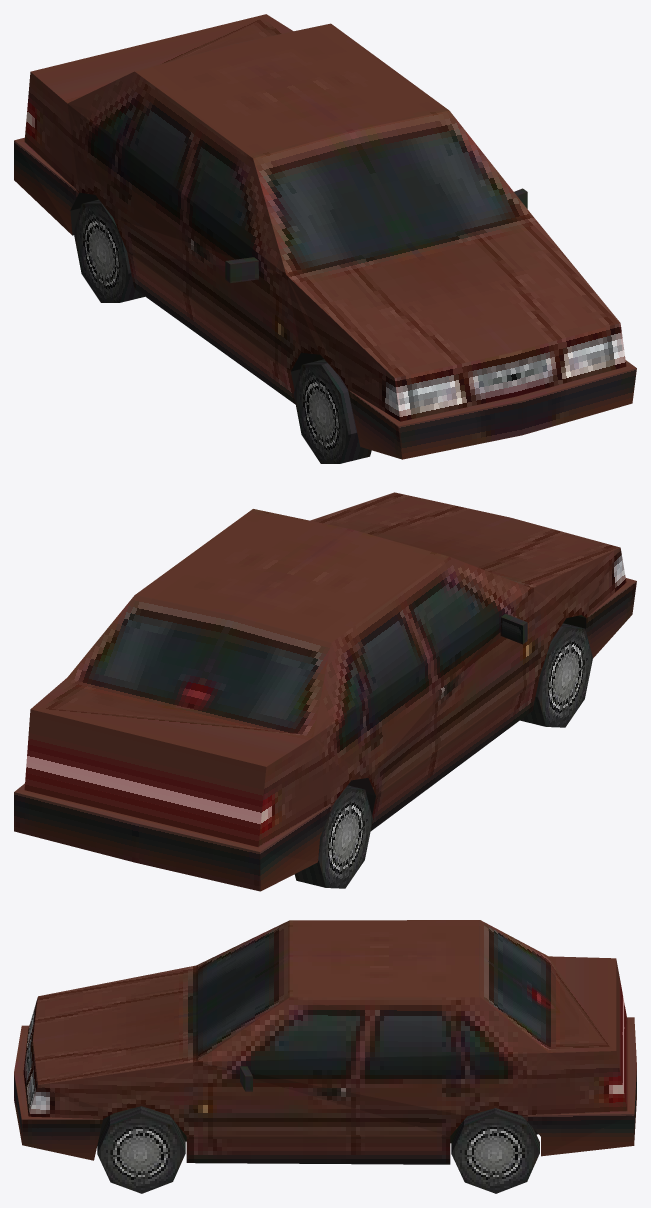
The model's file is car2-red.glb.
3 renders of one model, top to bottom at view 1: azimuth 30°, elevation 25°; view 2: azimuth 150°, elevation 25°; view 3: azimuth 270°, elevation 25°, orthographic. The views are drawn at different scales.
Parts seen in each view (by area): view 1: Car2; view 2: Car2; view 3: Car2.
Boxes of the visible parts, x1=… form: Car2: x1=14, y1=14, x2=636, y2=463; Car2: x1=14, y1=492, x2=636, y2=891; Car2: x1=14, y1=920, x2=636, y2=1193.
Bounding box in the file's own units: 2.9 × 2.2 × 6.53.
Materials: 1 (1 with a texture image).
